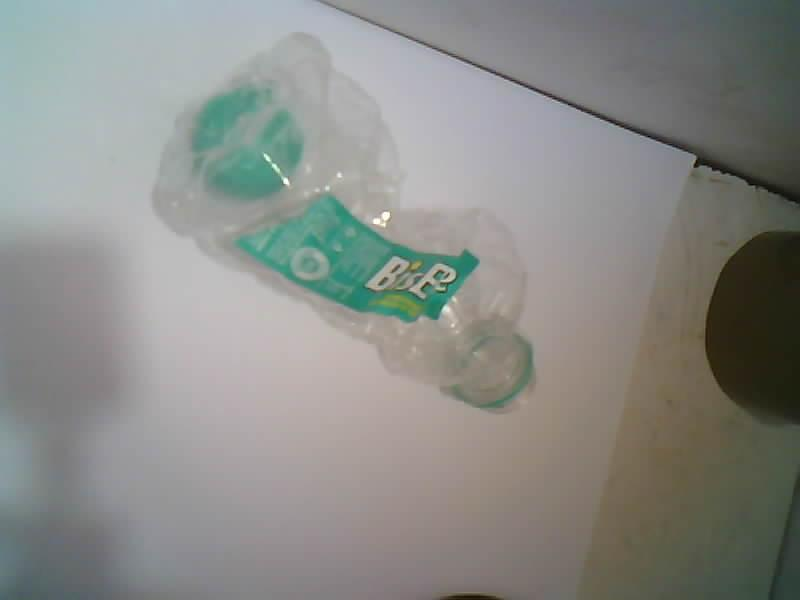non-biodegradable: (154, 34, 534, 410)
